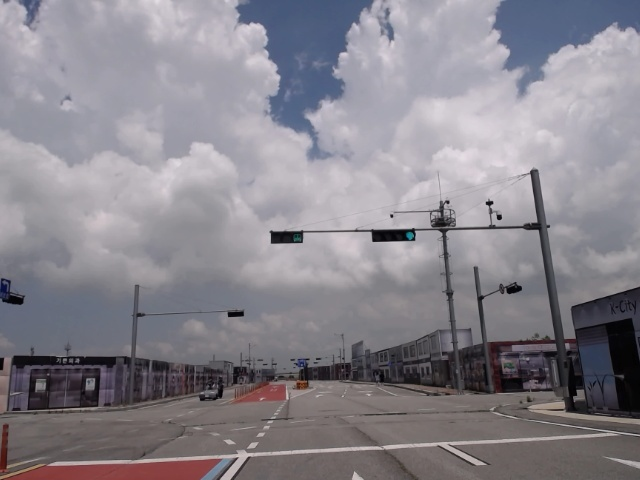straight_green_4: (371, 230, 415, 242)
